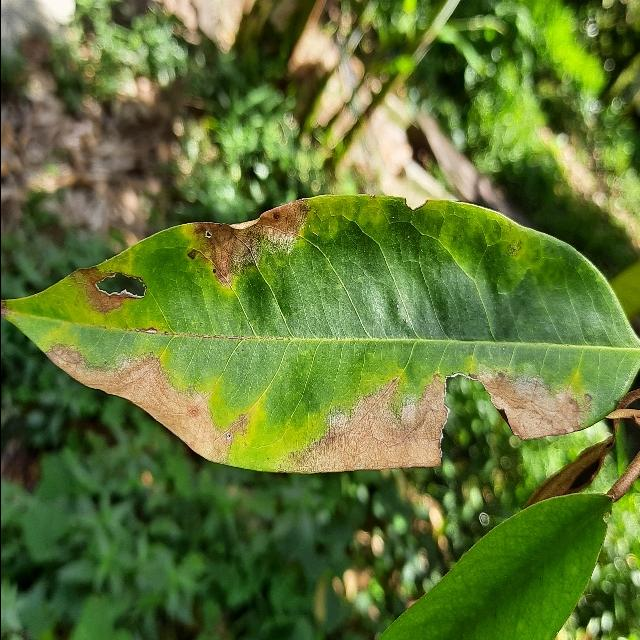Leaf Blight: (0, 187, 640, 479)
